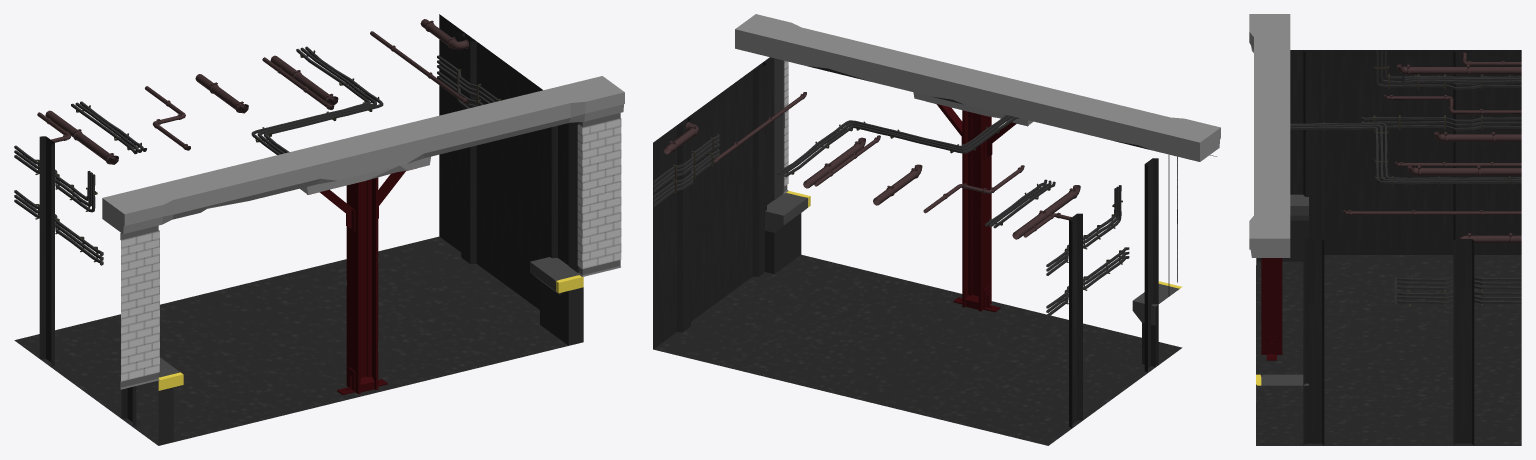
File: SW_ENV_RailTunnel_EntranceDouble_01_FF.fbx
The picture shows the model from 3 angles, left to right: view 1: azimuth 30°, elevation 25°; view 2: azimuth 150°, elevation 25°; view 3: azimuth 270°, elevation 25°; orthographic projection. The views are drawn at different scales.
Visible parts, largest first — view 1: SW_ENV_RailTunnel_EntranceDouble_01_FF; view 2: SW_ENV_RailTunnel_EntranceDouble_01_FF; view 3: SW_ENV_RailTunnel_EntranceDouble_01_FF.
Boxes of the visible parts, <box> form: SW_ENV_RailTunnel_EntranceDouble_01_FF: <box>14,14,624,445</box>; SW_ENV_RailTunnel_EntranceDouble_01_FF: <box>653,14,1220,445</box>; SW_ENV_RailTunnel_EntranceDouble_01_FF: <box>1249,14,1521,445</box>.
Bounding box in the file's own units: 10 × 4.65 × 5.13.
